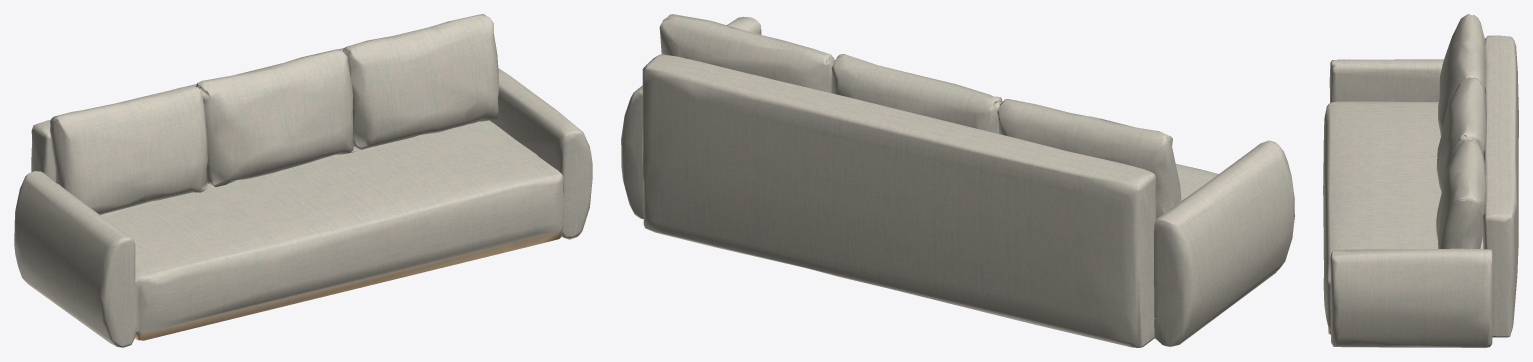
3 renders of one model, left to right at view 1: azimuth 30°, elevation 25°; view 2: azimuth 150°, elevation 25°; view 3: azimuth 270°, elevation 25°, orthographic. The views are drawn at different scales.
Visible parts, largest first — view 1: ASY_ART_30583384_S01_NV01; view 2: ASY_ART_30583384_S01_NV01; view 3: ASY_ART_30583384_S01_NV01.
Part boxes in pixels (x1=…): ASY_ART_30583384_S01_NV01: x1=14, y1=14, x2=592, y2=347; ASY_ART_30583384_S01_NV01: x1=621, y1=14, x2=1294, y2=347; ASY_ART_30583384_S01_NV01: x1=1323, y1=14, x2=1518, y2=347.
Bounding box in the file's own units: 2.32 × 0.7691 × 0.9197.
1 material, 1 textured.
